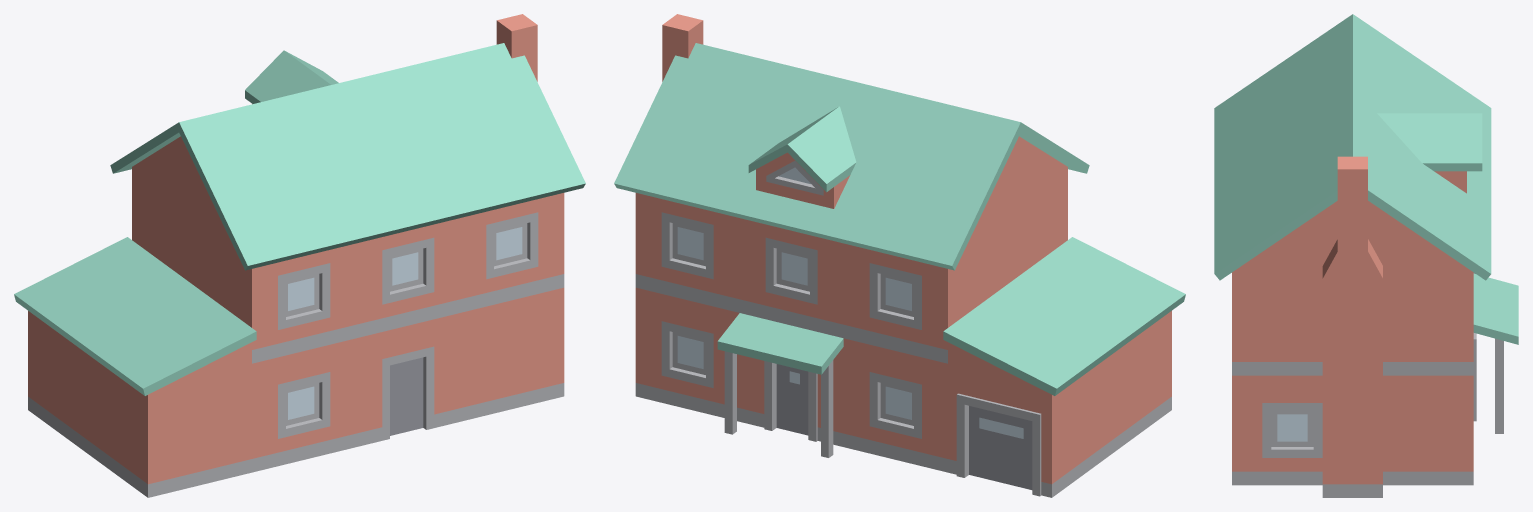
The model's file is Two story house-htvFgnVP4d.glb.
The picture shows the model from 3 angles, left to right: view 1: azimuth 30°, elevation 25°; view 2: azimuth 150°, elevation 25°; view 3: azimuth 270°, elevation 25°; orthographic projection.
Visible parts, largest first — view 1: house_type08; view 2: house_type08; view 3: house_type08.
Part boxes in pixels (x1=…): house_type08: x1=14, y1=14, x2=585, y2=497; house_type08: x1=614, y1=14, x2=1185, y2=497; house_type08: x1=1214, y1=14, x2=1518, y2=497.
Bounding box in the file's own units: 1.74 × 1.2 × 1.01.
